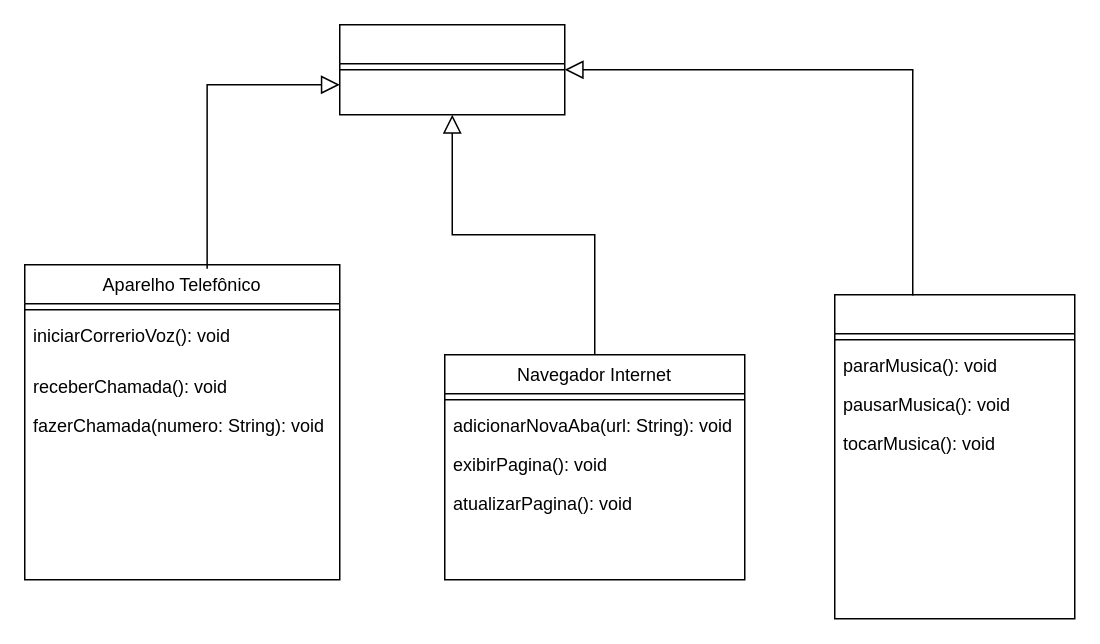
Image size: 1100x644. Some labels were removed from this diagram. The box of each missing label's shape, as (x1, y1, x2, y2) in pixels:
IOS/Iphone: (338, 23, 565, 115)
ReprodutorMusical: (833, 293, 1075, 619)
